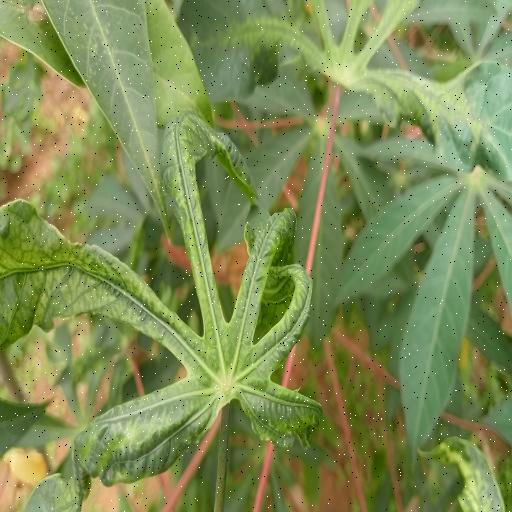Cassava_Mosaic: (0, 106, 324, 512), (172, 0, 512, 186)
